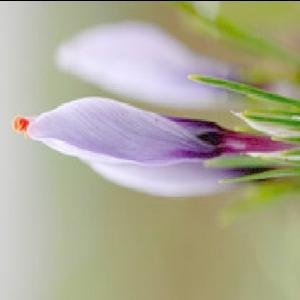Saffron: (60, 19, 258, 110), (23, 108, 238, 165), (84, 153, 266, 198)
